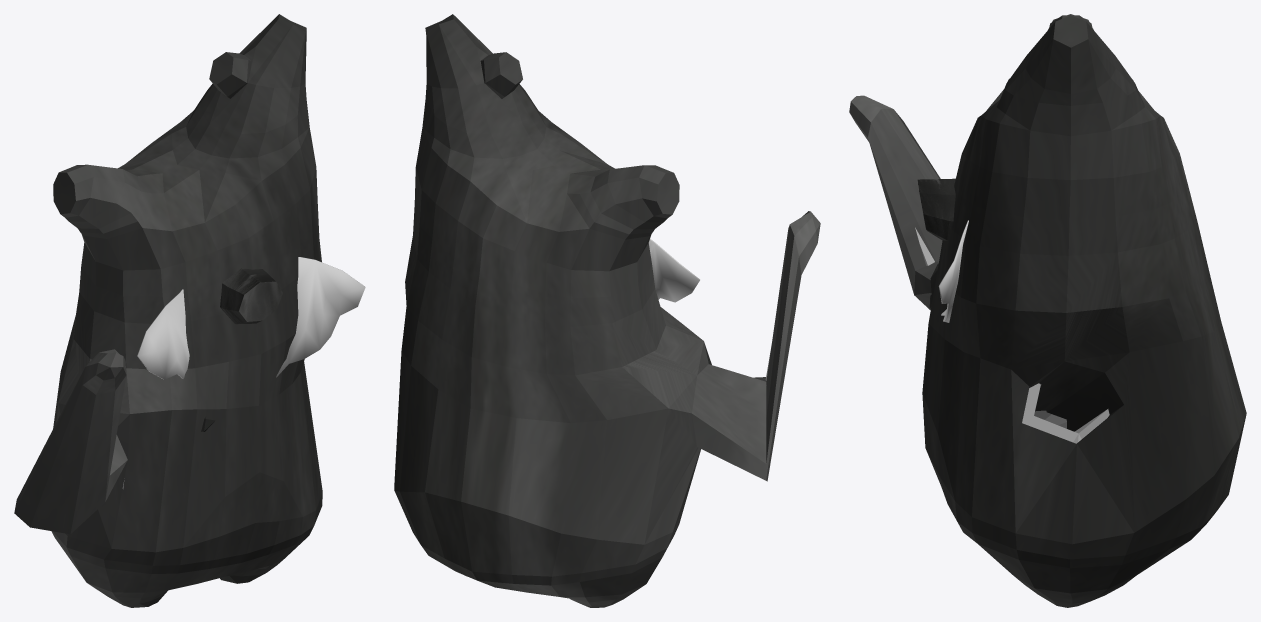
Rendered from frame_0011.obj.
The picture shows the model from 3 angles, left to right: view 1: azimuth 30°, elevation 25°; view 2: azimuth 150°, elevation 25°; view 3: azimuth 270°, elevation 25°; orthographic projection. The views are drawn at different scales.
Parts seen in each view (by area): view 1: korok, leaf, nose; view 2: korok, leaf; view 3: korok, nose, leaf.
Boxes of the visible parts, <box> form: korok: <box>14,14,322,607</box>; leaf: <box>137,257,365,379</box>; nose: <box>220,268,282,324</box>; korok: <box>394,14,820,607</box>; leaf: <box>648,239,699,302</box>; korok: <box>849,14,1246,607</box>; nose: <box>917,178,955,240</box>; leaf: <box>938,220,968,322</box>.
Bounding box in the file's own units: 1.48 × 2.41 × 1.42.
